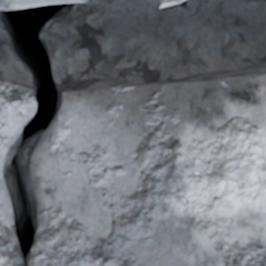brick: (0, 0, 87, 9), (158, 0, 183, 7)
broken_brick: (0, 76, 265, 265), (181, 62, 265, 77)
crack: (0, 2, 72, 263), (113, 72, 265, 87)
